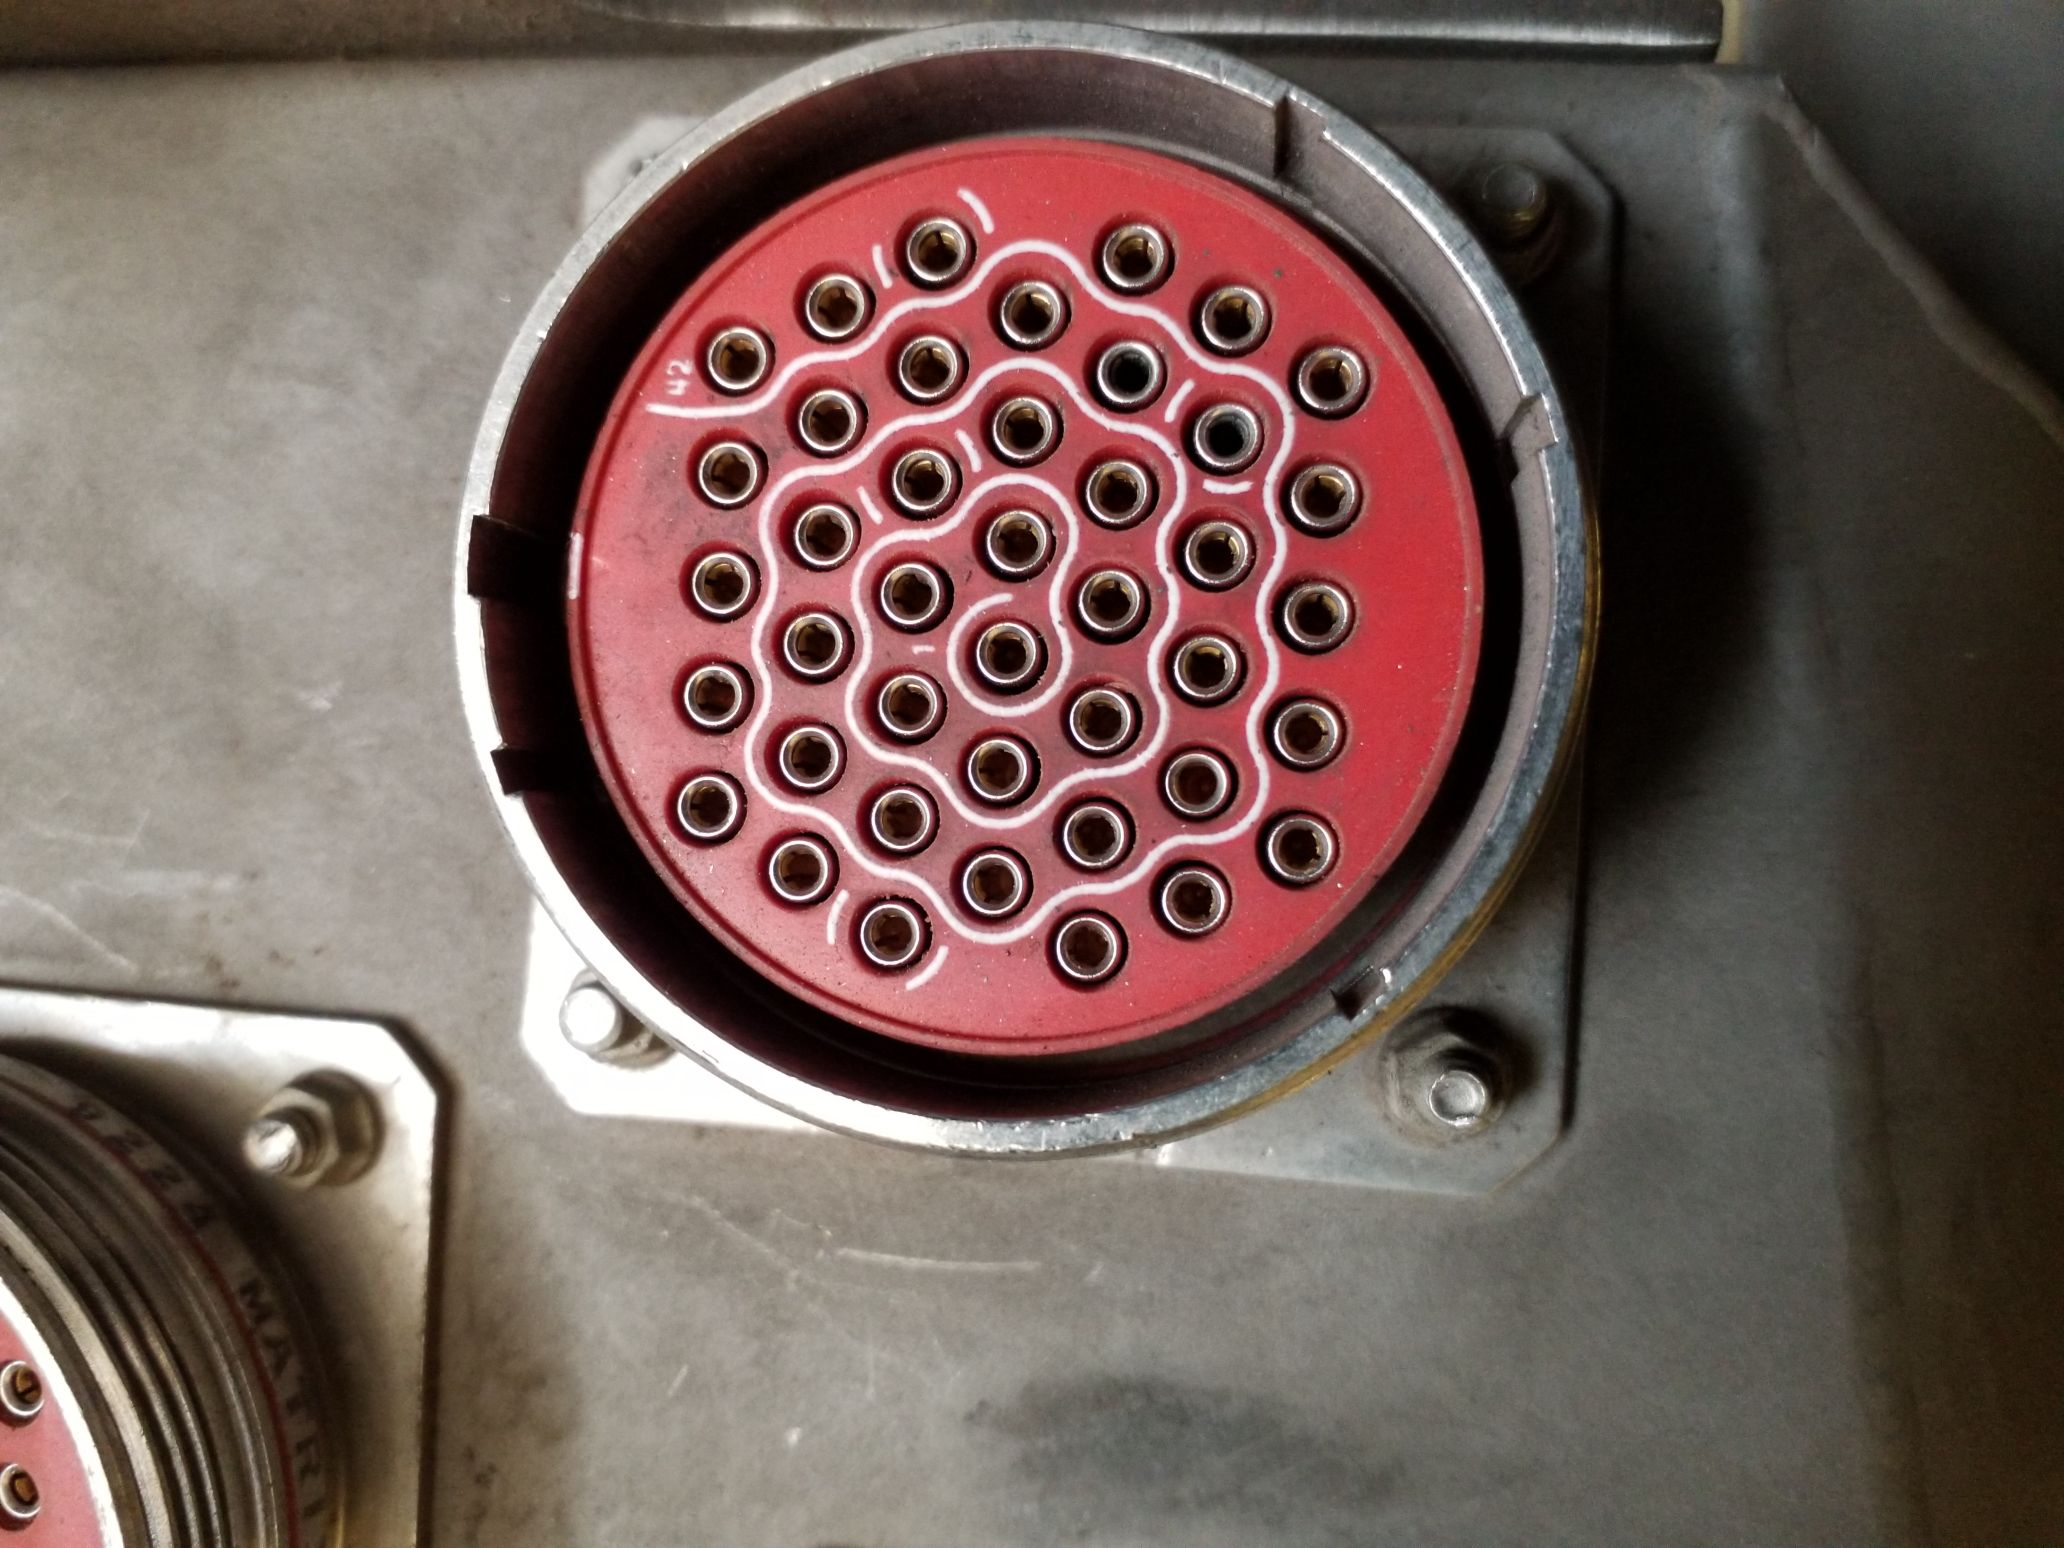inletround: (460, 20, 1598, 1176)
